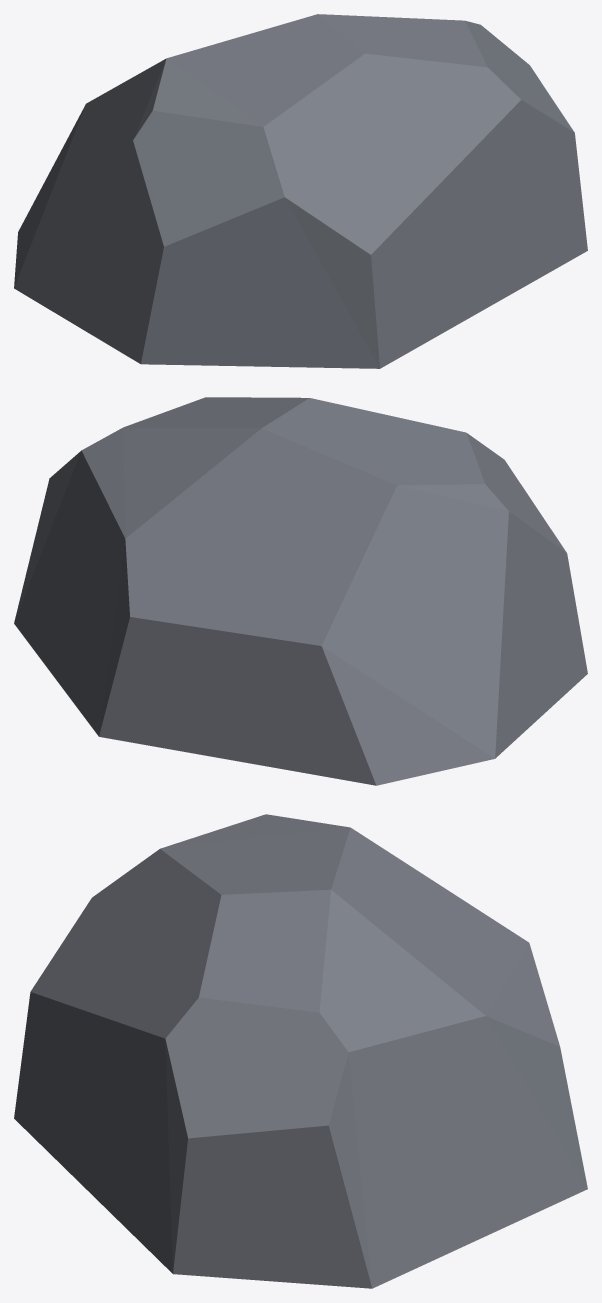
The model's file is Rock_Round_m_11 5.fbx.
3 renders of one model, top to bottom at view 1: azimuth 30°, elevation 25°; view 2: azimuth 150°, elevation 25°; view 3: azimuth 270°, elevation 25°, orthographic. The views are drawn at different scales.
Visible parts, largest first — view 1: Rock_Round_m_11; view 2: Rock_Round_m_11; view 3: Rock_Round_m_11.
Part boxes in pixels (x1=…): Rock_Round_m_11: x1=14, y1=14, x2=587, y2=368; Rock_Round_m_11: x1=14, y1=397, x2=587, y2=785; Rock_Round_m_11: x1=14, y1=814, x2=587, y2=1288.
Size of the model in its own units: 137 by 62.37 by 119.
